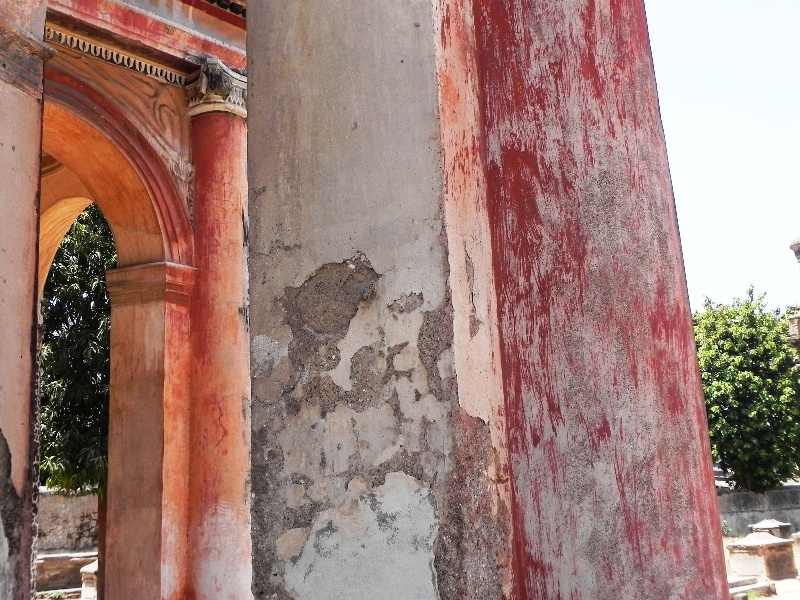Spalling: (436, 412, 508, 600), (283, 242, 381, 352), (416, 262, 463, 409)
